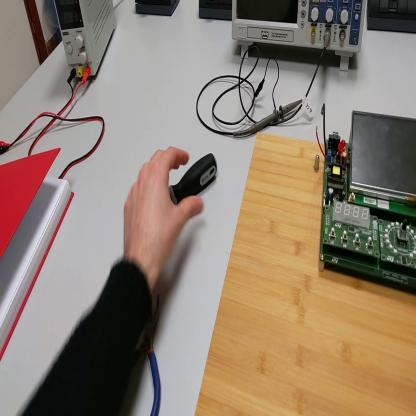hand: (123, 146, 201, 276)
low voltage board: (318, 104, 416, 294)
oscilloscope: (234, 1, 367, 74)
oscilloscope probe tip: (235, 98, 304, 134)
power supply: (55, 2, 119, 85)
register: (2, 151, 78, 360)
screwdriver-: (169, 153, 220, 203)
socket: (199, 1, 234, 26), (136, 2, 182, 20)
working area: (197, 130, 416, 415)
